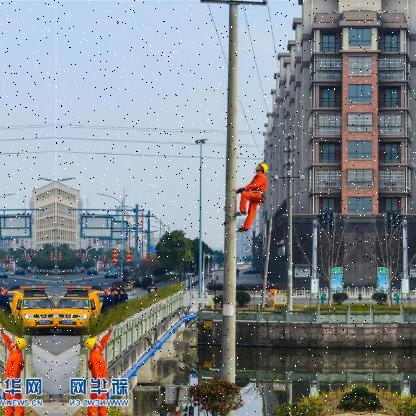helmet: (85, 334, 104, 351), (11, 334, 30, 351), (254, 159, 271, 174)
